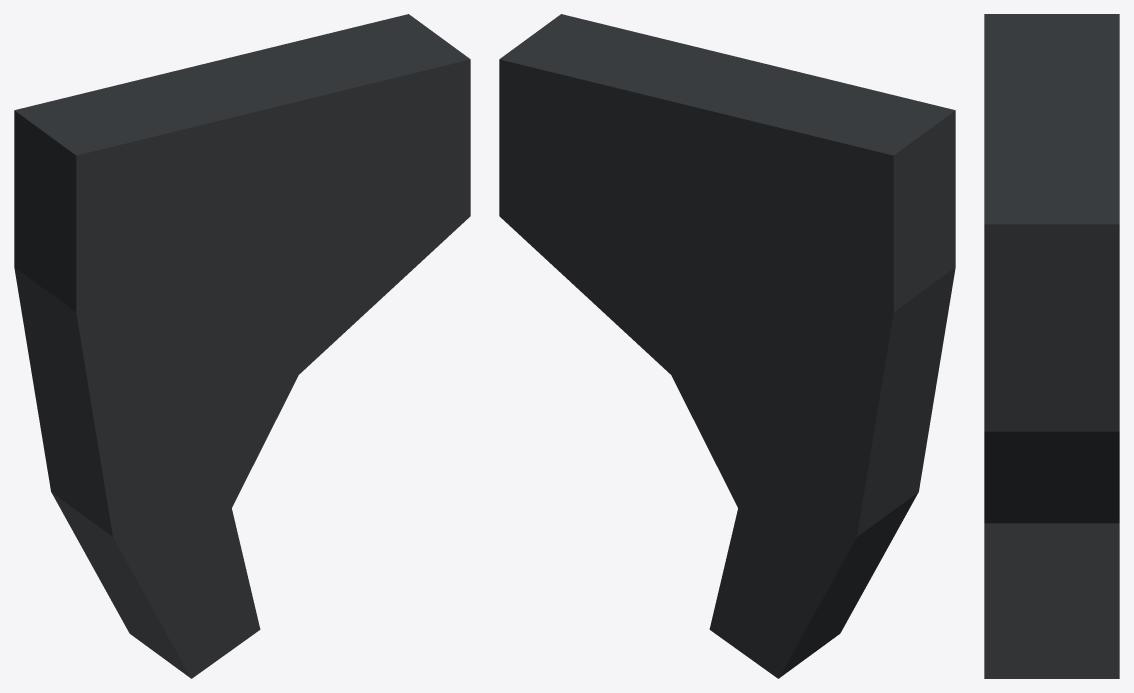
File: LMG2_06_3.fbx
3 views of the same model, side by side, from view 1: azimuth 30°, elevation 25°; view 2: azimuth 150°, elevation 25°; view 3: azimuth 270°, elevation 25° (orthographic). The views are drawn at different scales.
Visible parts, largest first — view 1: LMG2_06_3; view 2: LMG2_06_3; view 3: LMG2_06_3.
Part boxes in pixels (left/top/right/bottom): LMG2_06_3: left=14, top=14, right=470, bottom=678; LMG2_06_3: left=499, top=14, right=955, bottom=678; LMG2_06_3: left=984, top=14, right=1119, bottom=678.
Size of the model in its own units: 0.0366 by 0.0489 by 0.00995.
